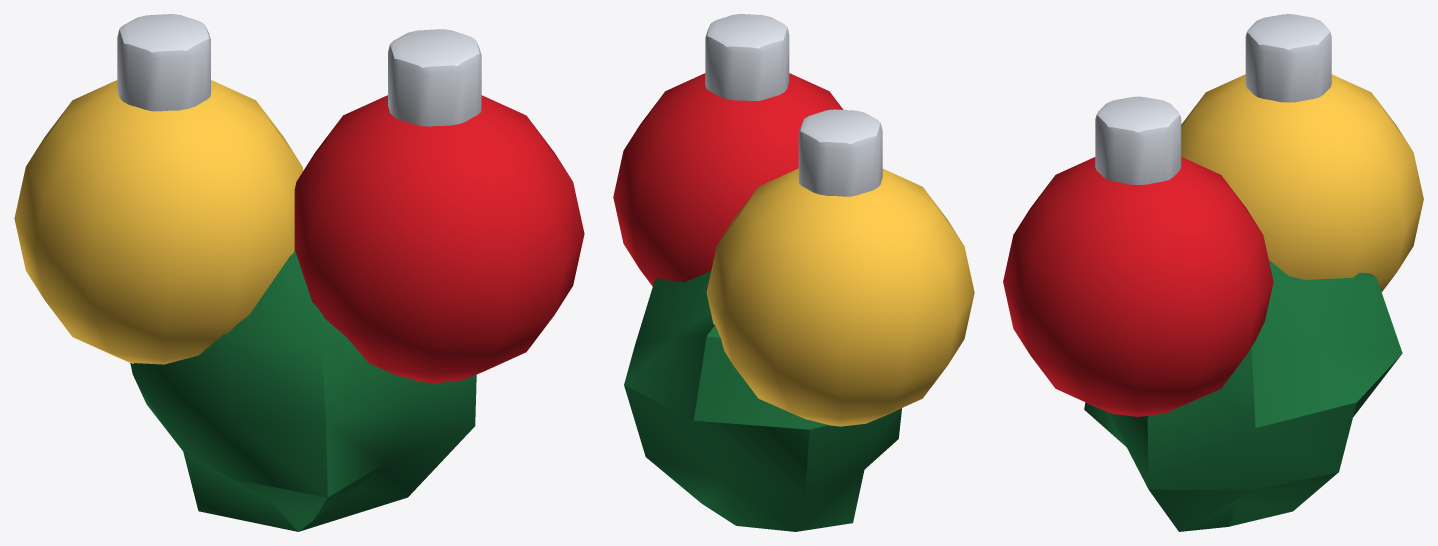
The model's file is RailNewYear.fbx.
3 views of the same model, side by side, from view 1: azimuth 30°, elevation 25°; view 2: azimuth 150°, elevation 25°; view 3: azimuth 270°, elevation 25° (orthographic). The views are drawn at different scales.
Parts seen in each view (by area): view 1: RailNewYear; view 2: RailNewYear; view 3: RailNewYear.
Boxes of the visible parts, x1,y1,x2,y2 form: RailNewYear: (14, 14, 584, 531); RailNewYear: (613, 14, 974, 531); RailNewYear: (1003, 14, 1423, 531).
Bounding box in the file's own units: 155 × 166 × 140.
